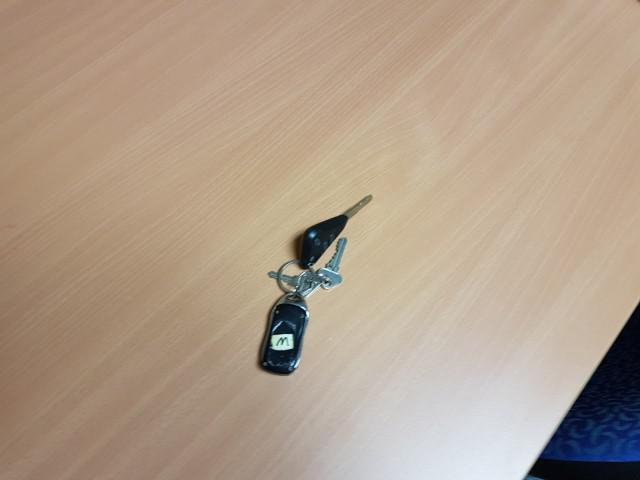key: (302, 194, 373, 266)
